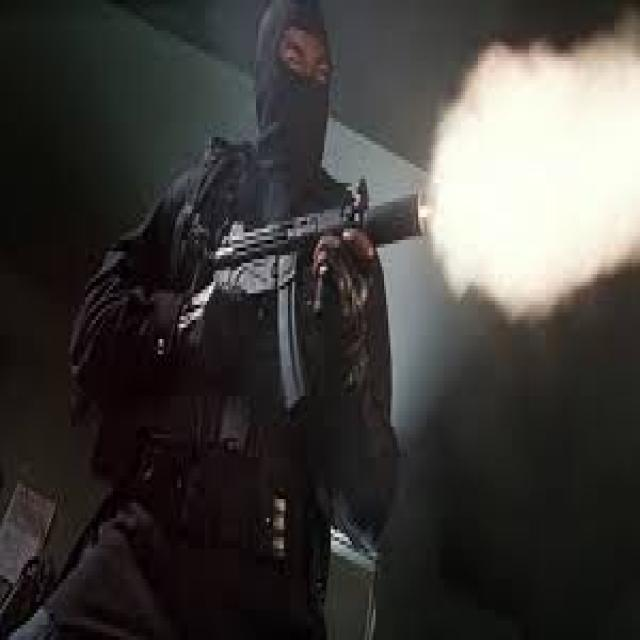gun: (181, 166, 441, 431)
